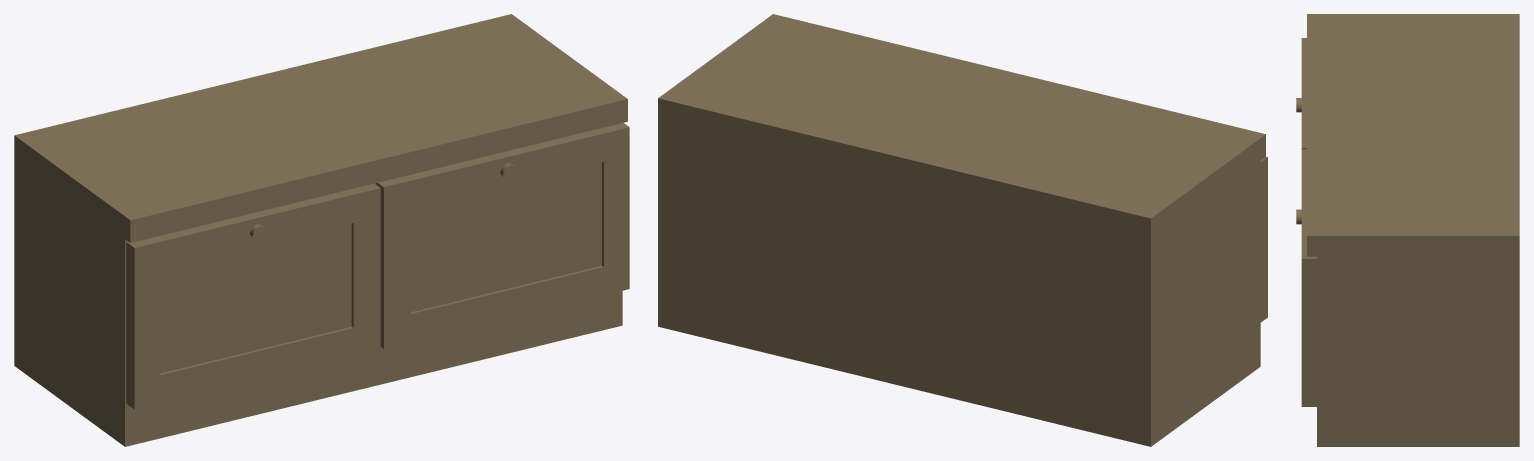
File: TV_Tumba.fbx
The picture shows the model from 3 angles, left to right: view 1: azimuth 30°, elevation 25°; view 2: azimuth 150°, elevation 25°; view 3: azimuth 270°, elevation 25°; orthographic projection. The views are drawn at different scales.
Visible parts, largest first — view 1: Tumba_2; view 2: Tumba_2; view 3: Tumba_2.
Part boxes in pixels (x1,y1,x2,y2): Tumba_2: [14, 14, 629, 446]; Tumba_2: [658, 14, 1267, 446]; Tumba_2: [1296, 14, 1519, 446].
Size of the model in its own units: 121 by 53.49 by 51.39.
